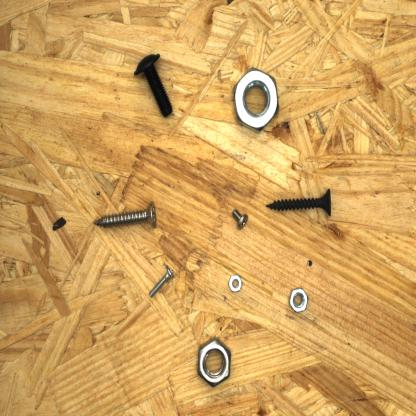screw: (129, 48, 177, 121), (262, 184, 336, 222), (90, 198, 160, 233), (145, 263, 178, 302), (225, 204, 253, 233)
